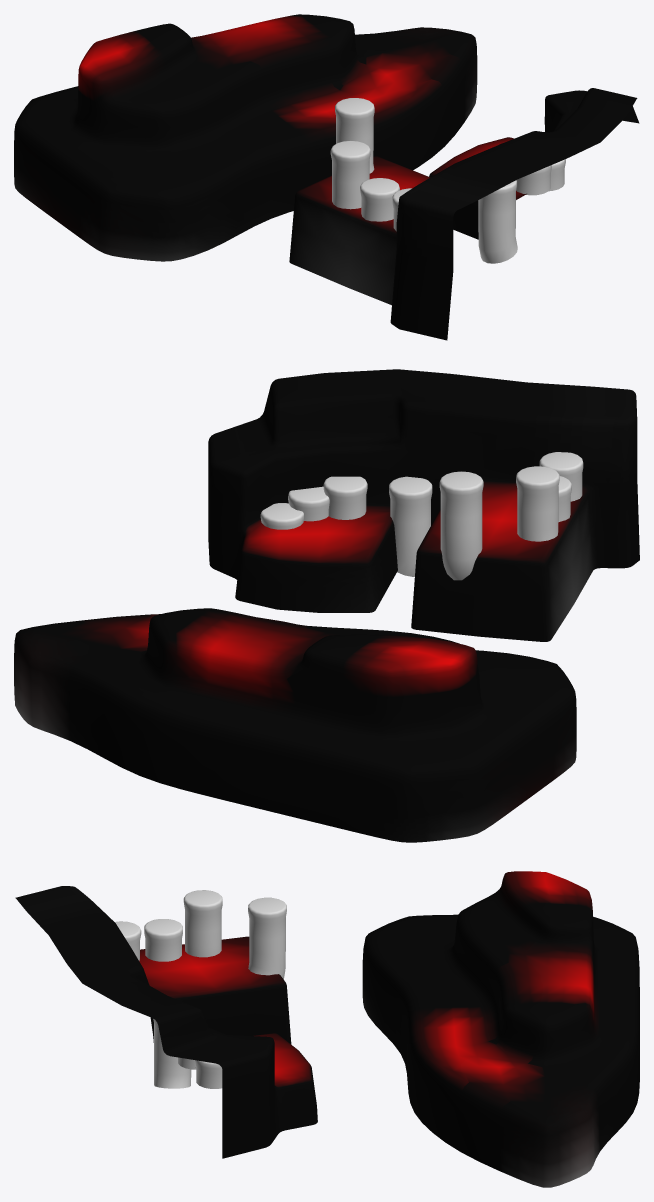
File: Terrain.glb
3 renders of one model, top to bottom at view 1: azimuth 30°, elevation 25°; view 2: azimuth 150°, elevation 25°; view 3: azimuth 270°, elevation 25°, orthographic. The views are drawn at different scales.
Visible parts, largest first — view 1: Plane, terrain, large_trunk.002, large_trunk.006, large_trunk.007, large_trunk.005, large_trunk; view 2: Plane, terrain, large_trunk.007, large_trunk.002, large_trunk.006, large_trunk, large_trunk.003, large_trunk.001, large_trunk.004; view 3: Plane, terrain, large_trunk.007, large_trunk.006, large_trunk.005, large_trunk.002, large_trunk.001, large_trunk.003.
Boxes of the visible parts, x1,y1,x2,y2 form: Plane: (14, 14, 477, 261); terrain: (289, 88, 639, 340); large_trunk.002: (478, 180, 517, 263); large_trunk.006: (330, 140, 370, 209); large_trunk.007: (335, 98, 374, 173); large_trunk.005: (360, 178, 399, 221); large_trunk: (516, 165, 551, 195); Plane: (14, 608, 576, 842); terrain: (208, 369, 639, 641); large_trunk.007: (439, 471, 483, 580); large_trunk.002: (389, 476, 432, 576); large_trunk.006: (516, 466, 559, 541); large_trunk: (323, 476, 367, 519); large_trunk.003: (539, 452, 583, 501); large_trunk.001: (288, 486, 329, 521); large_trunk.004: (260, 503, 303, 529); Plane: (362, 871, 639, 1187); terrain: (15, 886, 317, 1158); large_trunk.007: (248, 897, 286, 979); large_trunk.006: (183, 890, 222, 957); large_trunk.005: (144, 919, 182, 961); large_trunk.002: (153, 1019, 191, 1088); large_trunk.001: (195, 1060, 222, 1088); large_trunk.003: (115, 921, 141, 960).
Bounding box in the file's own units: 108 × 37.21 × 135.
